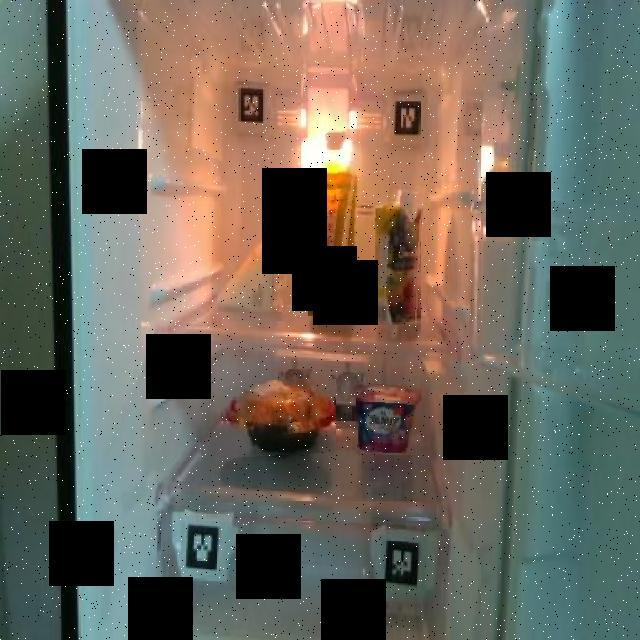bento: (218, 379, 336, 458)
sandwich: (212, 213, 296, 312)
smoothie: (375, 184, 423, 325)
tea_a: (308, 129, 360, 317)
yogurt: (352, 377, 420, 455)
